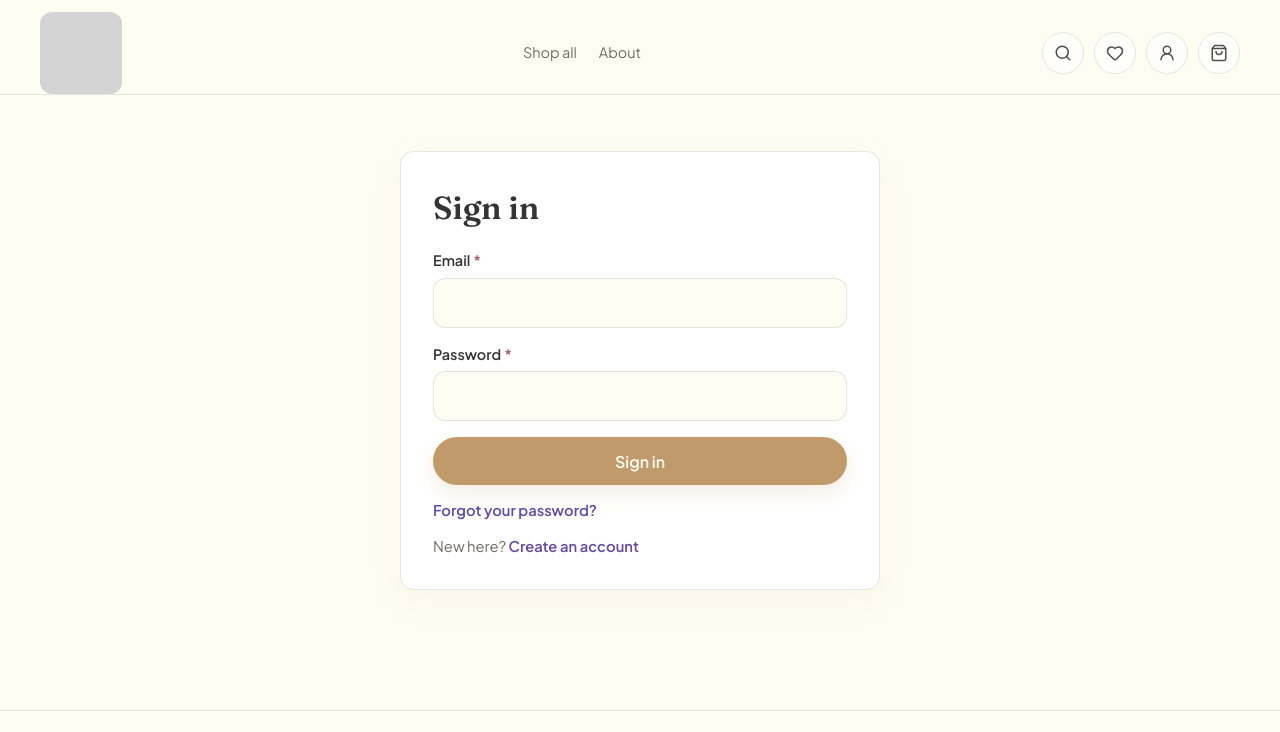
shared login › shows the server error message on failure
Step 1. Type "a@b.co" into the field labelled "Email*" → (640, 303), box x1=433 y1=278 x2=847 y2=328
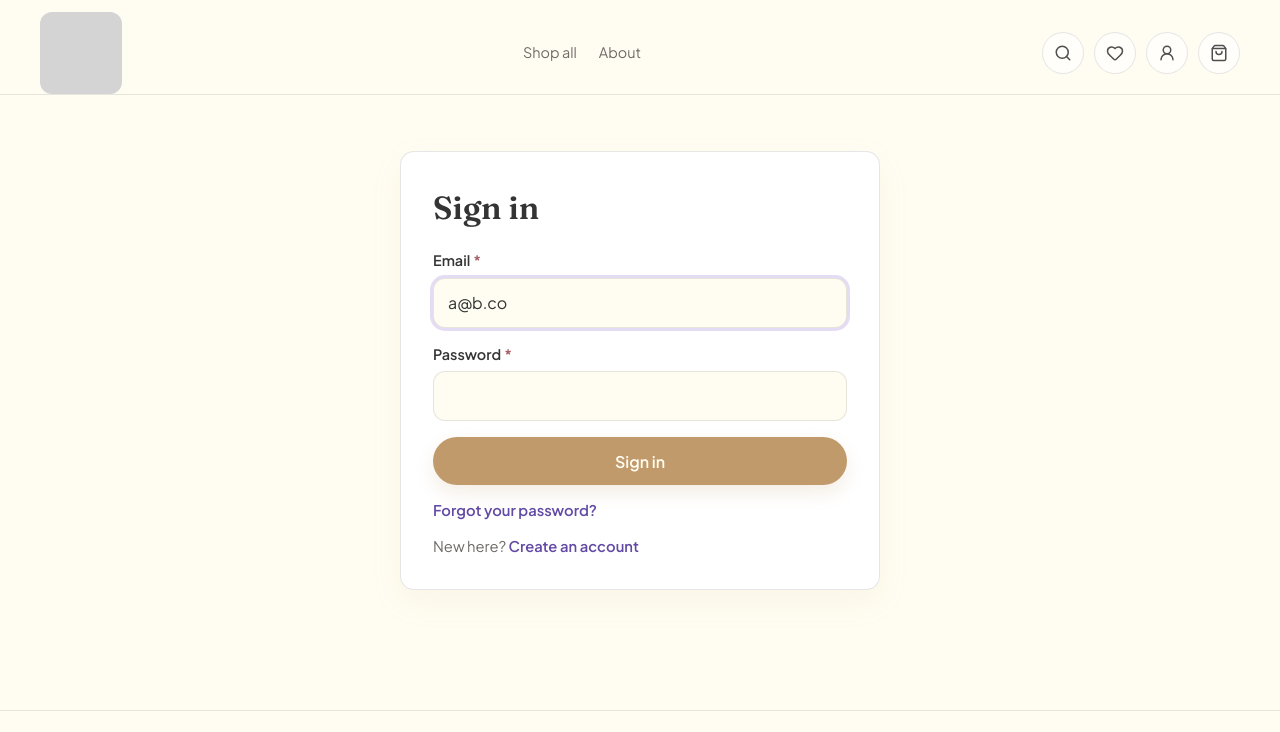
Step 2. Type "wrong" into the password field labelled "Password*" → (640, 396), box x1=433 y1=371 x2=847 y2=421
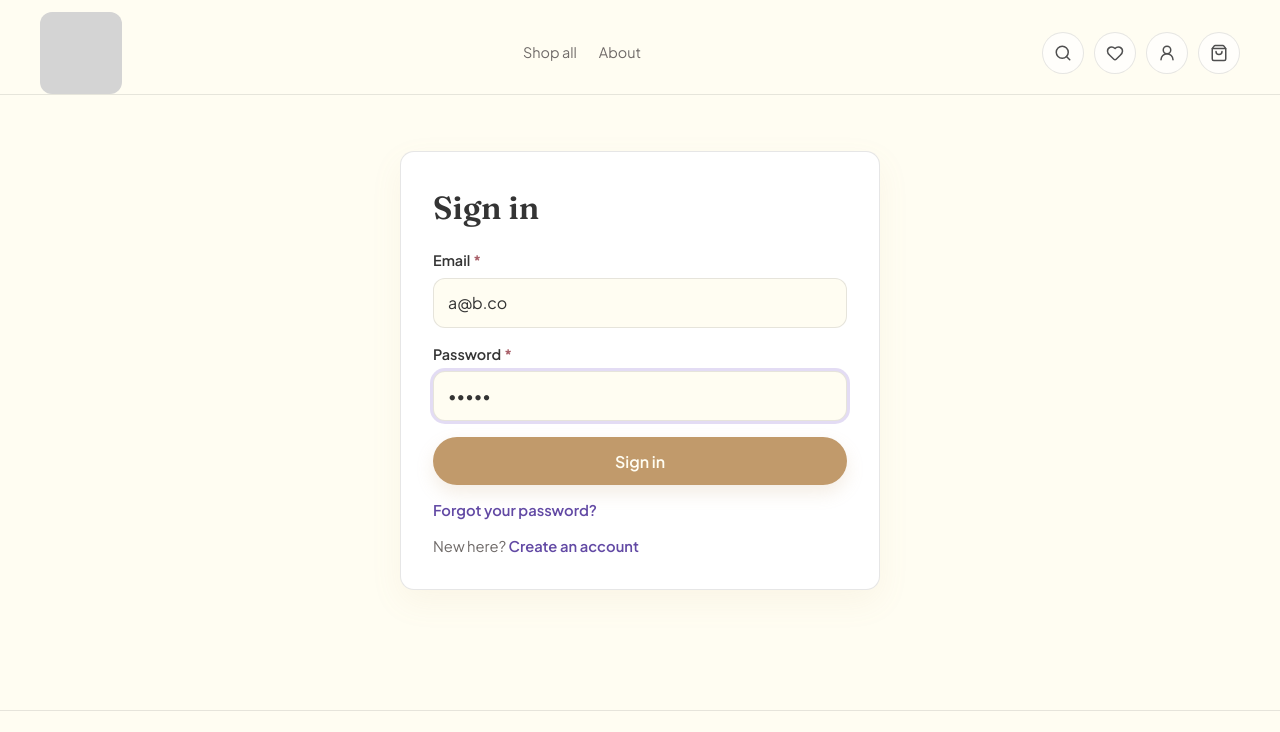
Step 3. Click the button "Sign in" → (640, 461), box x1=433 y1=437 x2=847 y2=485
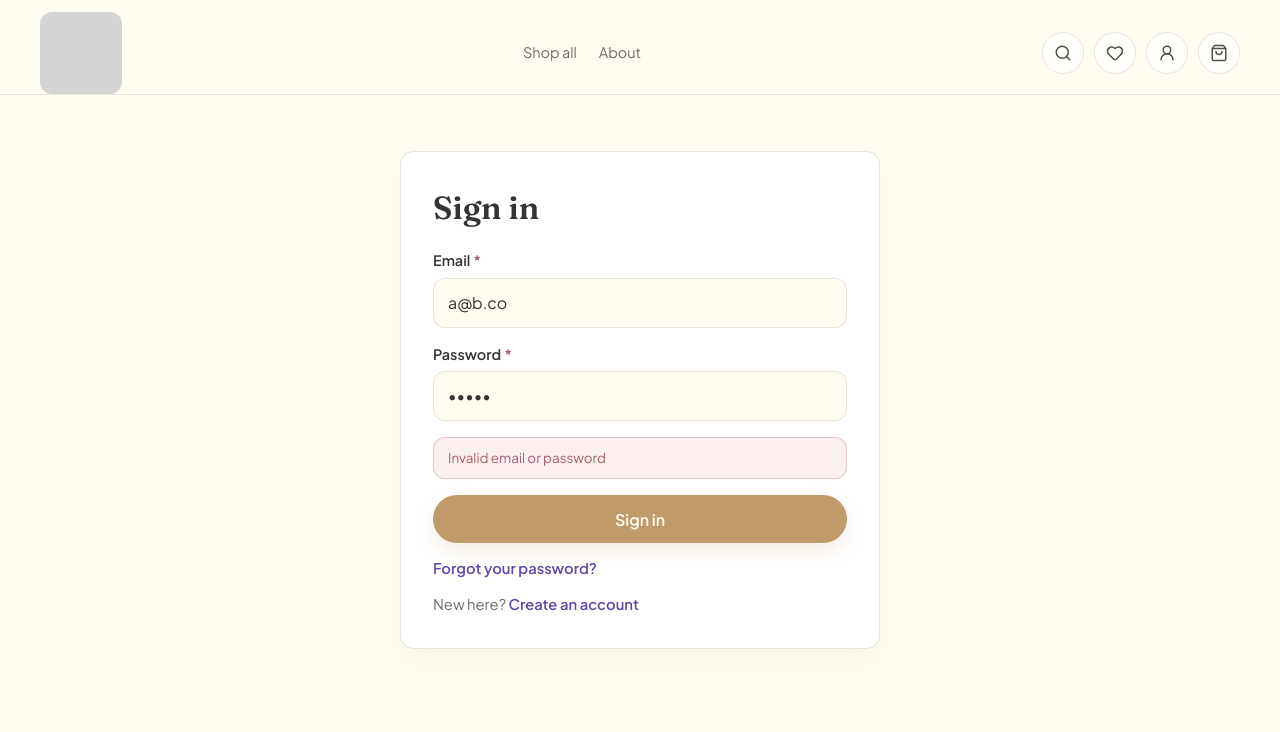
Now the message reads "Invalid email or password", box x1=448 y1=449 x2=606 y2=466
